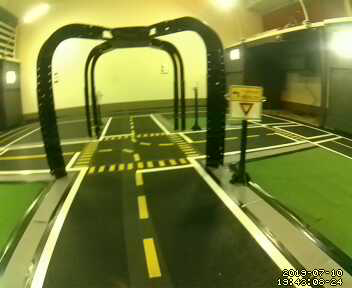Turn Yield: (228, 85, 261, 122)
